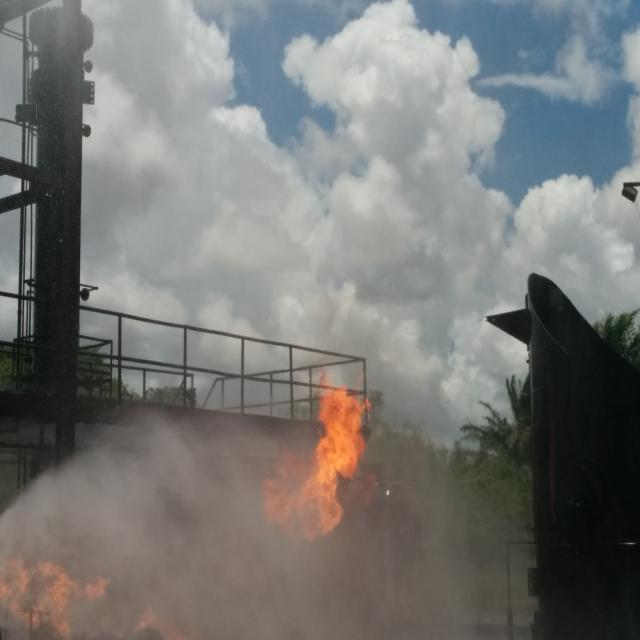fire: (260, 366, 369, 548), (3, 552, 170, 640)
smoke: (6, 417, 526, 634)
